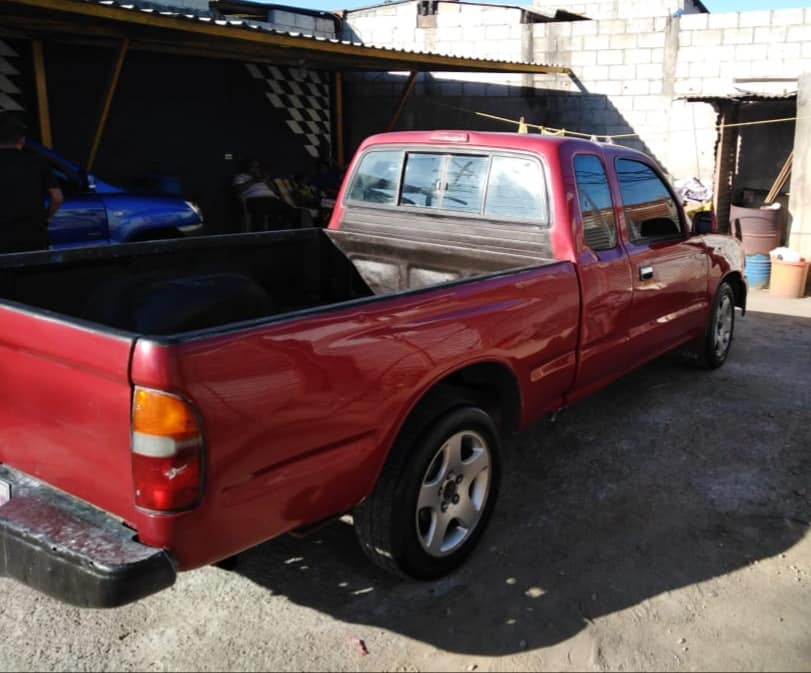pickup: (10, 131, 745, 571)
